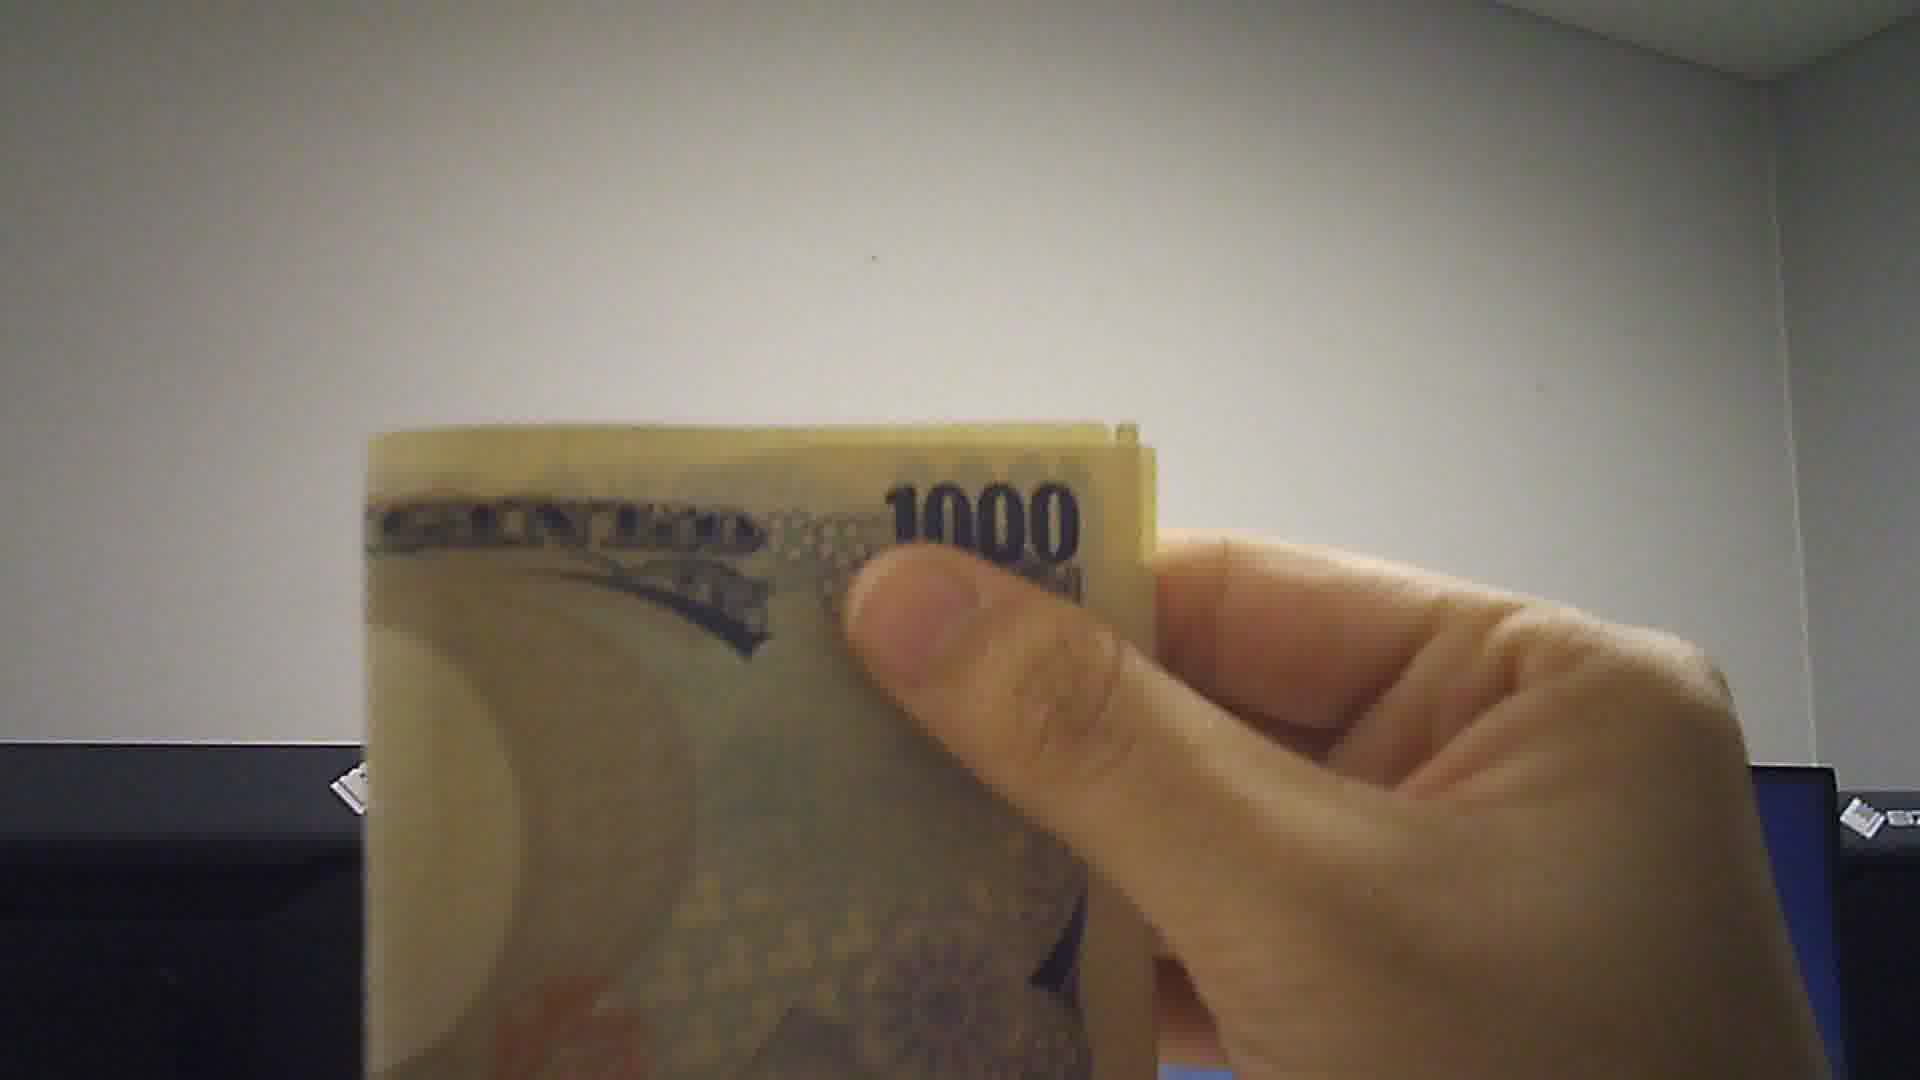1,000 Yen: (360, 427, 1175, 1079)
